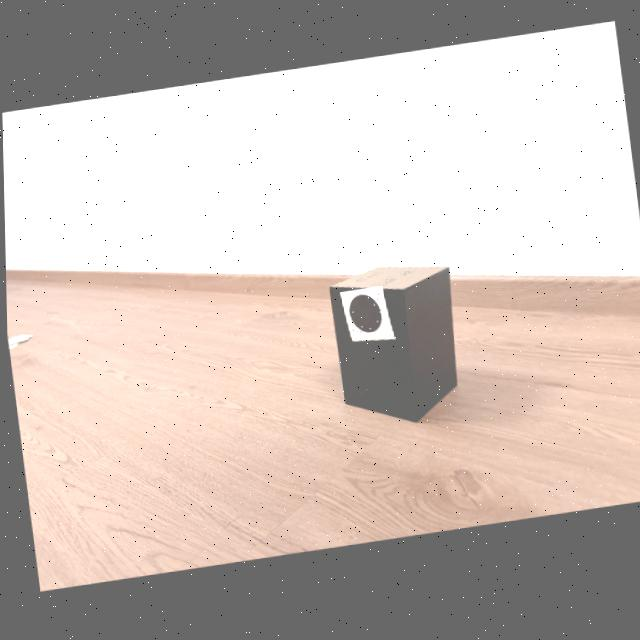CIRCLE: (348, 297, 380, 335)
